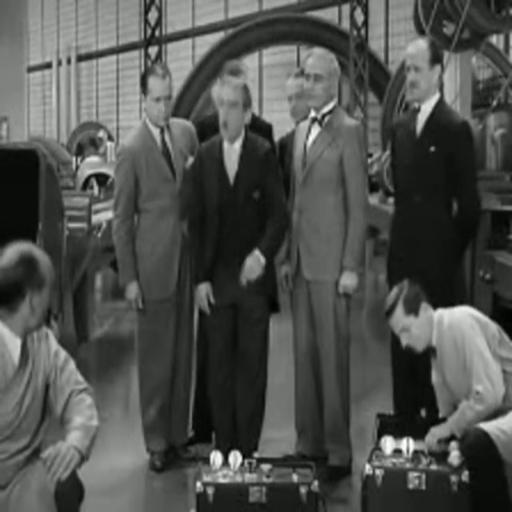nao-violencia: (99, 46, 377, 477)
